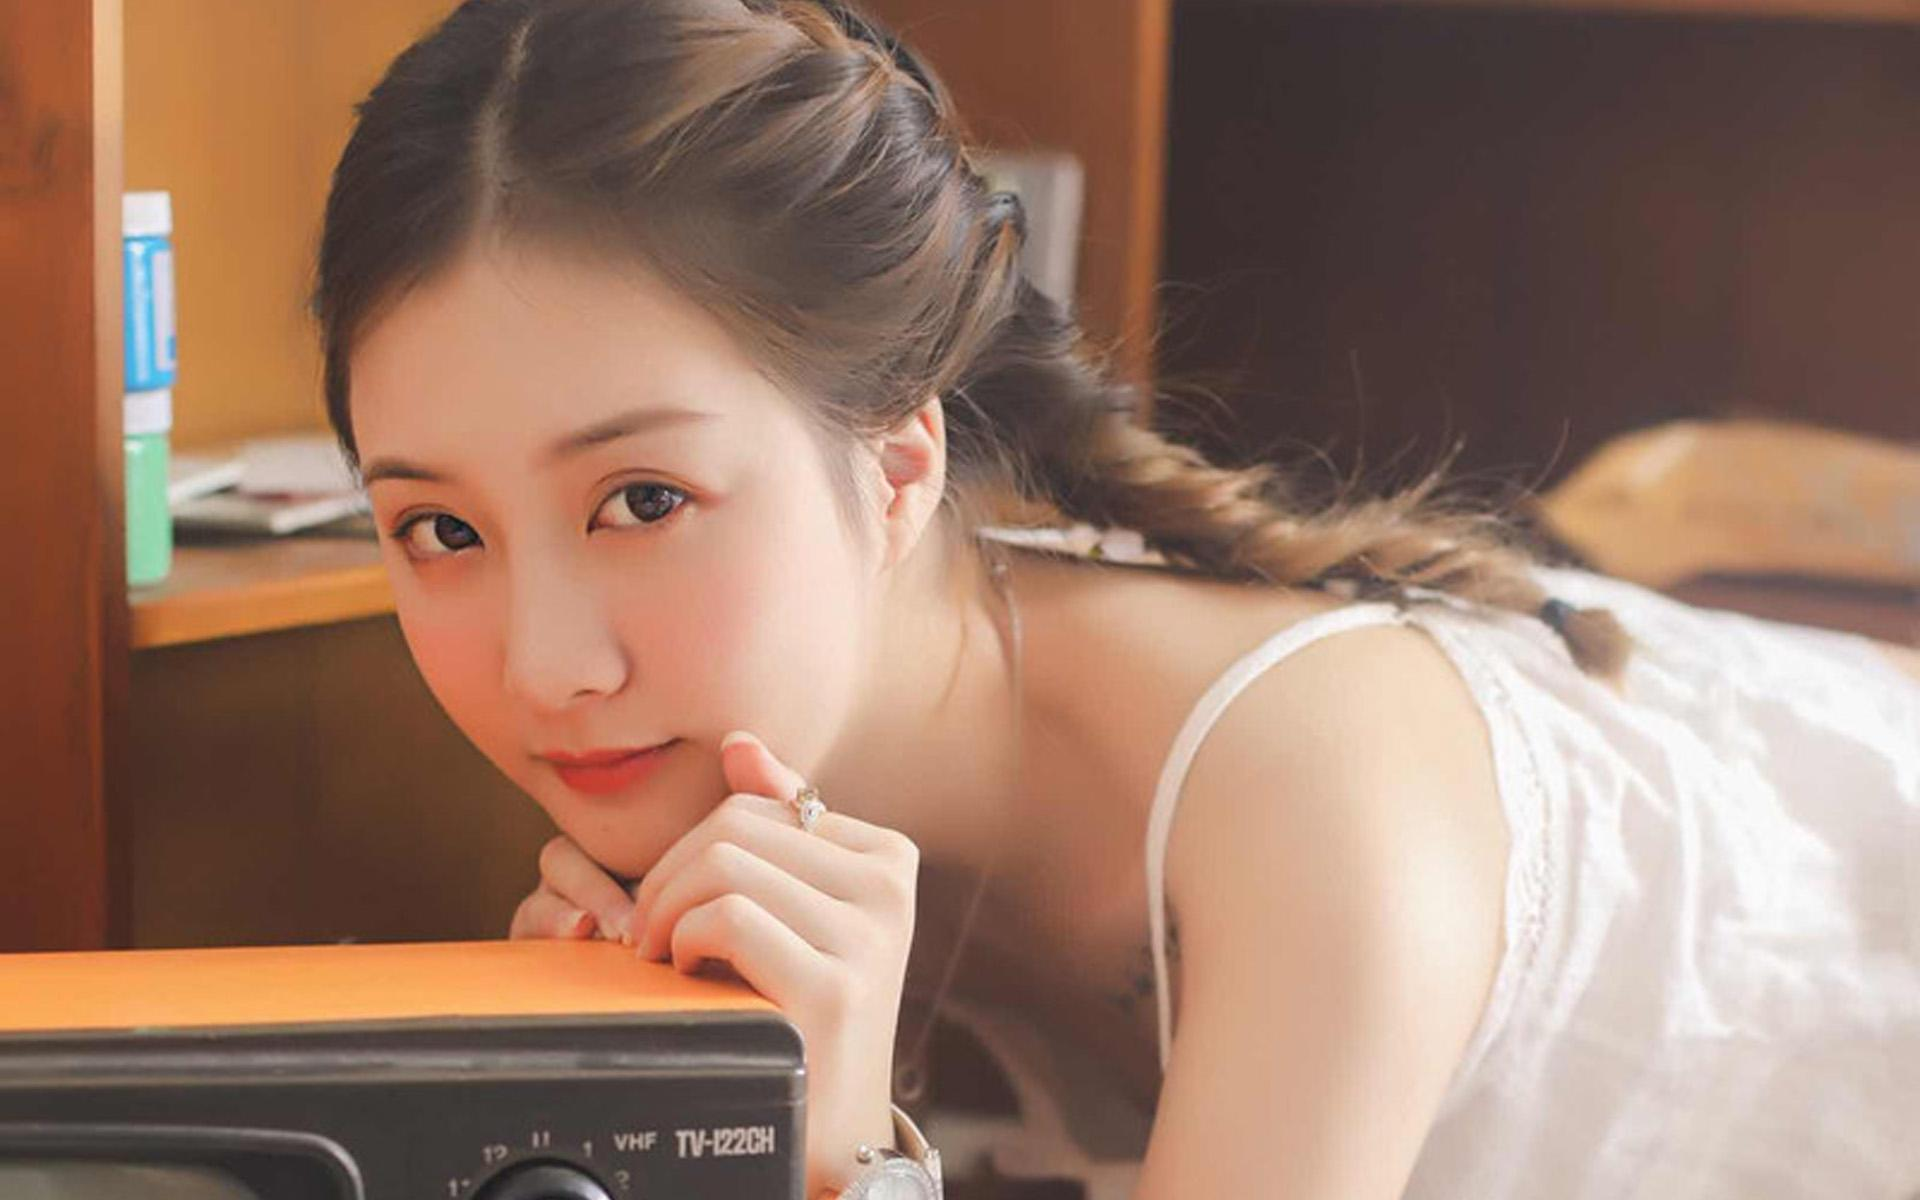person: (280, 130, 1894, 1200)
